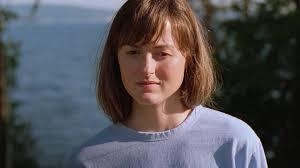person: (90, 0, 226, 117)
